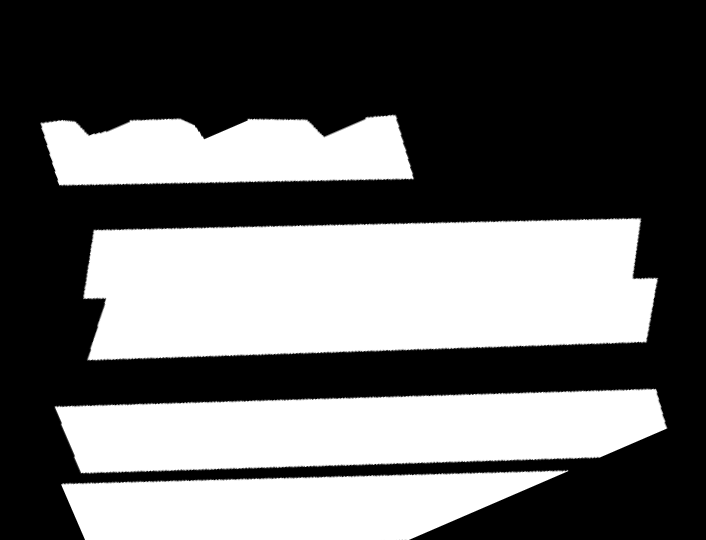parkingspot: (83, 218, 658, 360), (55, 389, 667, 474), (61, 470, 568, 540), (41, 115, 414, 186)
